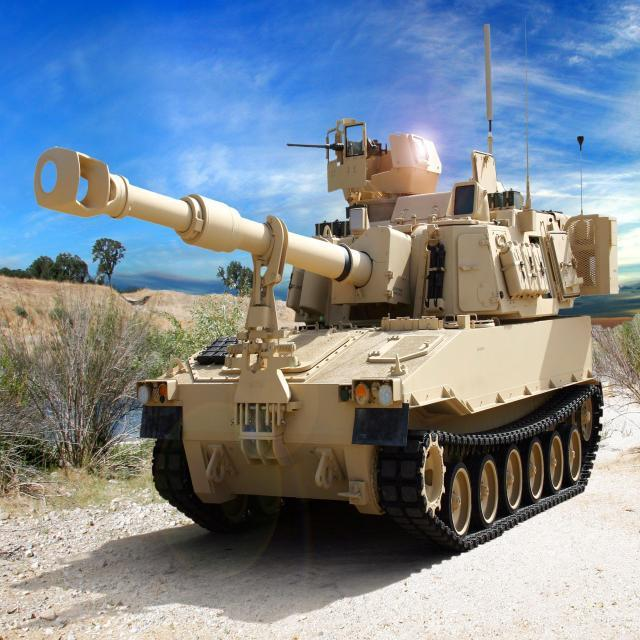MIL_MBT: (33, 51, 625, 585)
